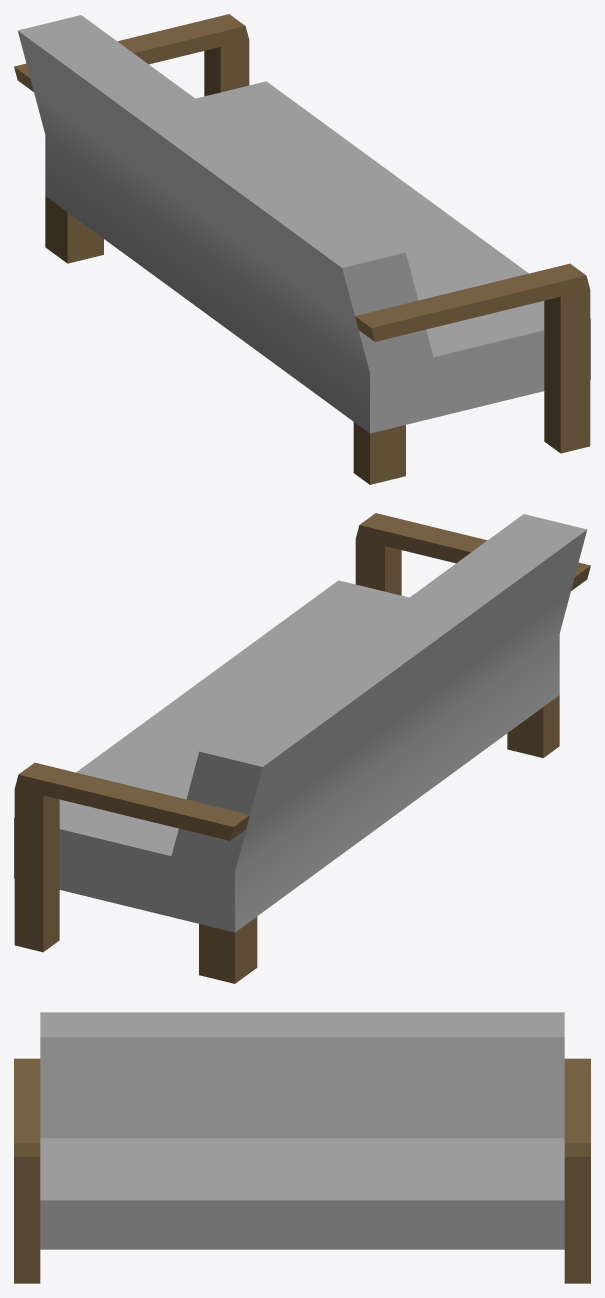
The model's file is SofaLongWhite.fbx.
The picture shows the model from 3 angles, top to bottom: view 1: azimuth 30°, elevation 25°; view 2: azimuth 150°, elevation 25°; view 3: azimuth 270°, elevation 25°; orthographic projection. The views are drawn at different scales.
Visible parts, largest first — view 1: pCube5; view 2: pCube5; view 3: pCube5.
Part boxes in pixels (x1=…): pCube5: x1=14, y1=14, x2=590, y2=484; pCube5: x1=14, y1=513, x2=590, y2=983; pCube5: x1=14, y1=1012, x2=590, y2=1283.
Bounding box in the file's own units: 8.16 × 7.01 × 20.31.
